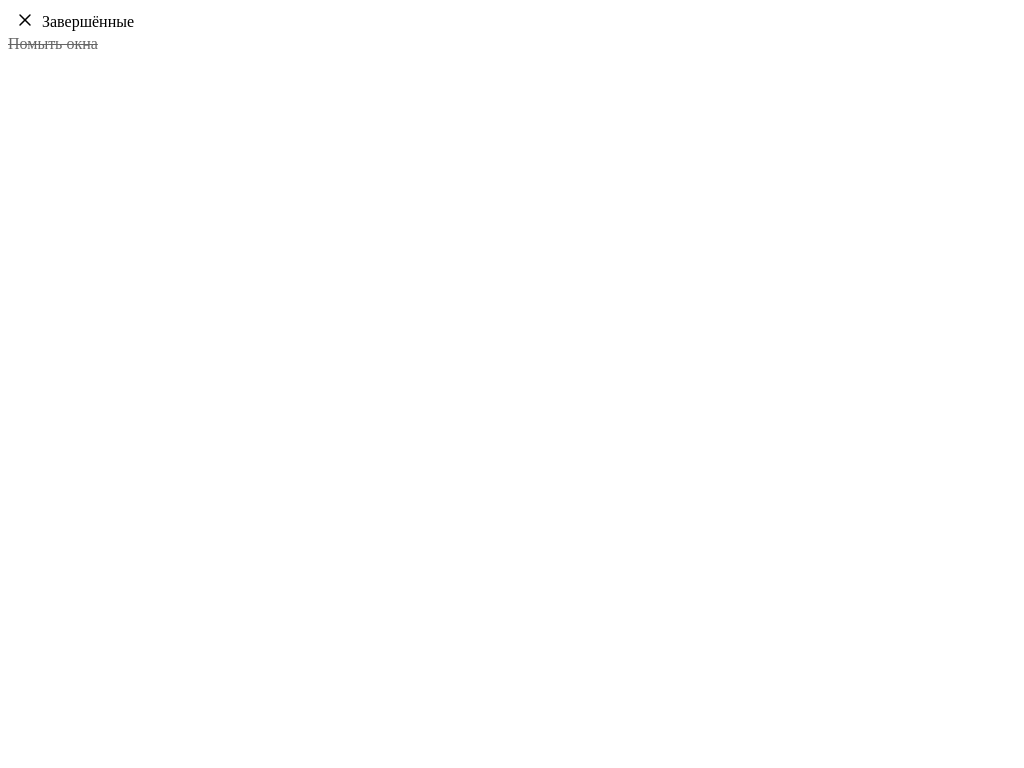
Completed — восстановление обычной задачи (простой случай, без выбора) › клик открывает диалог с названием задачи и кнопкой «Восстановить»; подтверждение переводит задачу в active и убирает её из списка
The image size is (1024, 768).
Click the text "Помыть окна".
click(53, 44)  # box [8, 35, 98, 53]
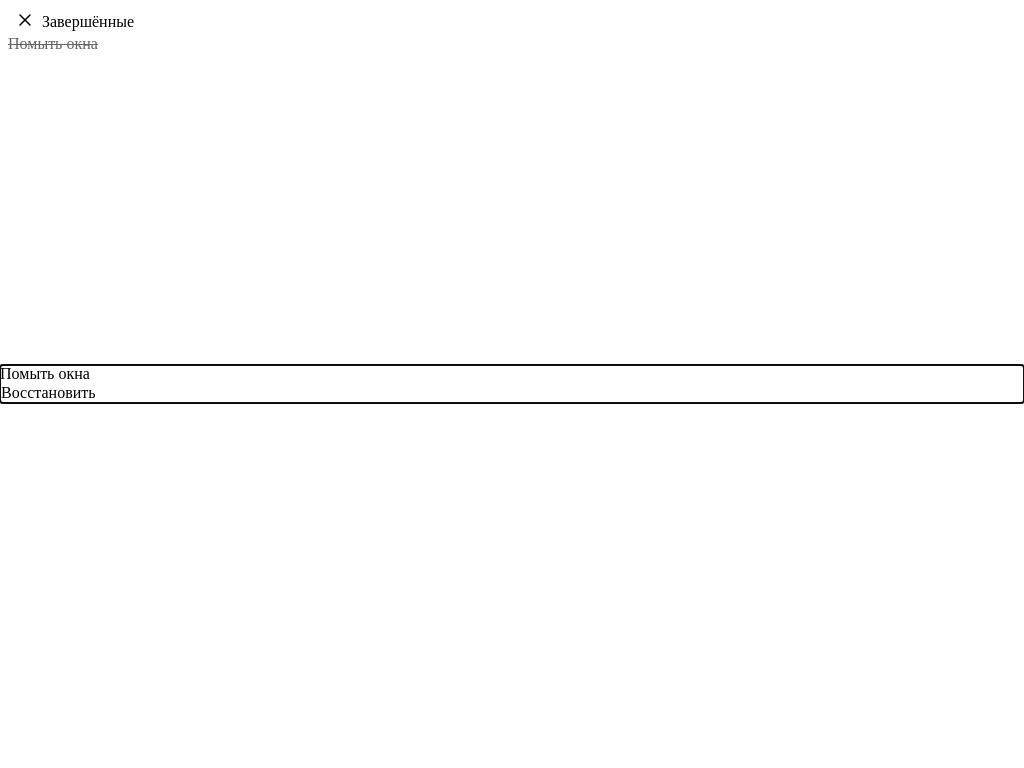
Now the button "Восстановить" is enabled
Click the button "Восстановить".
click(48, 393)  # box [0, 383, 96, 403]
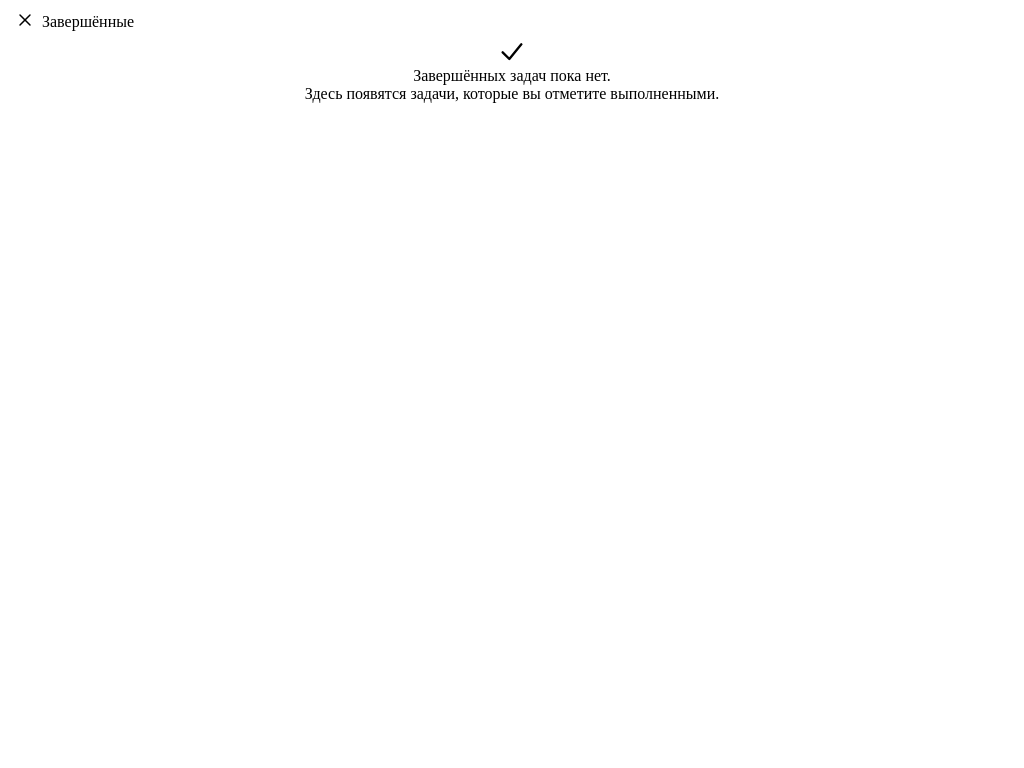
Now the text "Помыть окна" is gone
